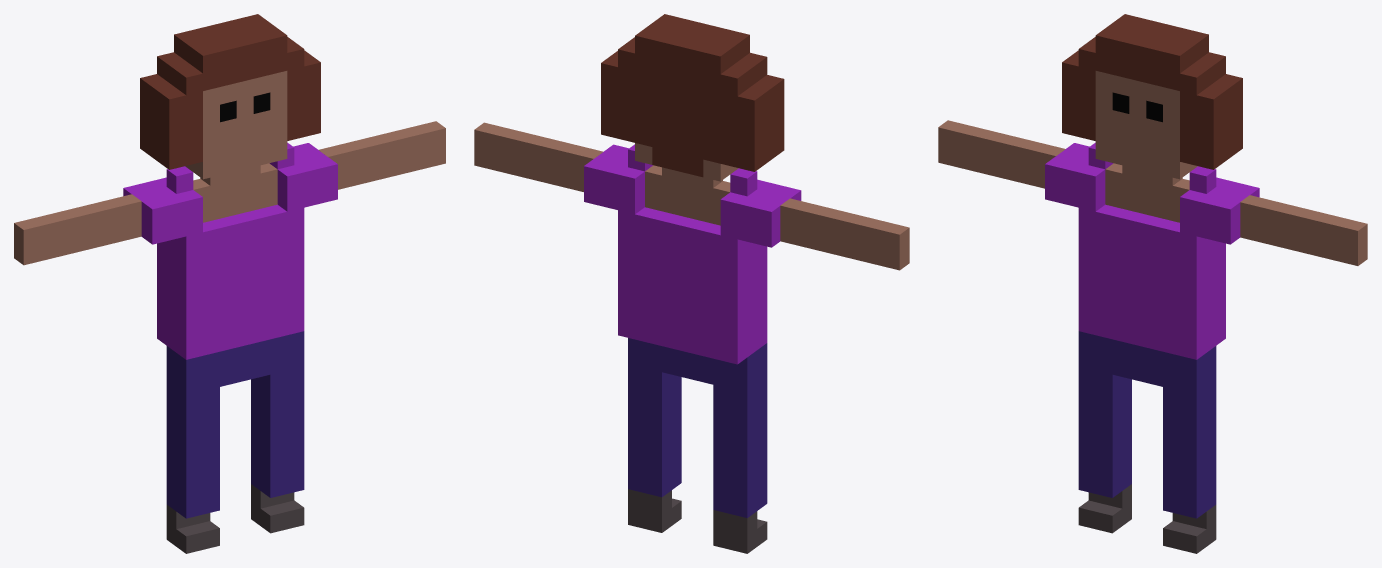
Rendered from personaje_4.glb.
The picture shows the model from 3 angles, left to right: view 1: azimuth 30°, elevation 25°; view 2: azimuth 150°, elevation 25°; view 3: azimuth 330°, elevation 25°; orthographic projection.
Visible parts, largest first — view 1: personaje_4; view 2: personaje_4; view 3: personaje_4.
Part boxes in pixels (x1,y1,x2,y2): personaje_4: (14,14,445,553); personaje_4: (474,14,909,553); personaje_4: (938,14,1367,553).
Bounding box in the file's own units: 49.96 × 56 × 6.
